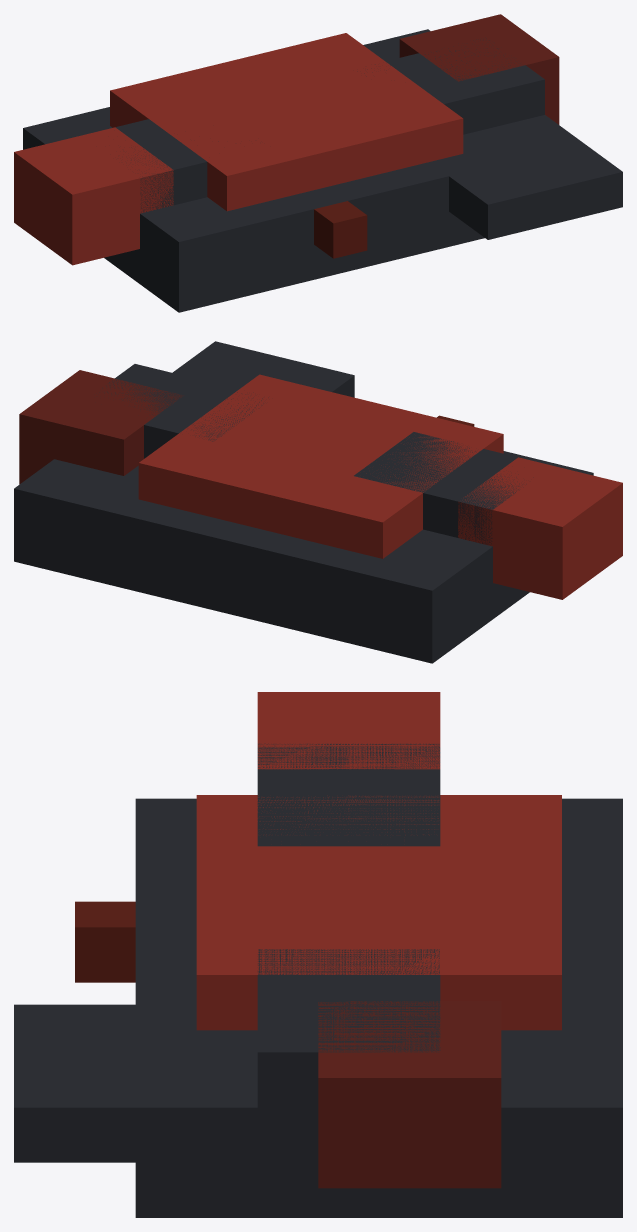
File: mech_flyer_destroyed.glb
3 renders of one model, top to bottom at view 1: azimuth 30°, elevation 25°; view 2: azimuth 150°, elevation 25°; view 3: azimuth 270°, elevation 25°, orthographic. The views are drawn at different scales.
Parts seen in each view (by area): view 1: Wreck mesh, Rotor mesh, Ember mesh; view 2: Wreck mesh, Rotor mesh; view 3: Wreck mesh, Rotor mesh, Ember mesh.
Boxes of the visible parts, x1=… form: Wreck mesh: x1=14, y1=14, x2=622, y2=312; Rotor mesh: x1=115, y1=37, x2=544, y2=212; Ember mesh: x1=314, y1=201, x2=367, y2=258; Wreck mesh: x1=14, y1=341, x2=622, y2=663; Rotor mesh: x1=99, y1=364, x2=533, y2=544; Wreck mesh: x1=14, y1=692, x2=622, y2=1217; Rotor mesh: x1=257, y1=743, x2=440, y2=1107; Ember mesh: x1=75, y1=901, x2=135, y2=982.
Size of the model in its own units: 15 by 3 by 10.
Materials: 1 (1 with a texture image).
